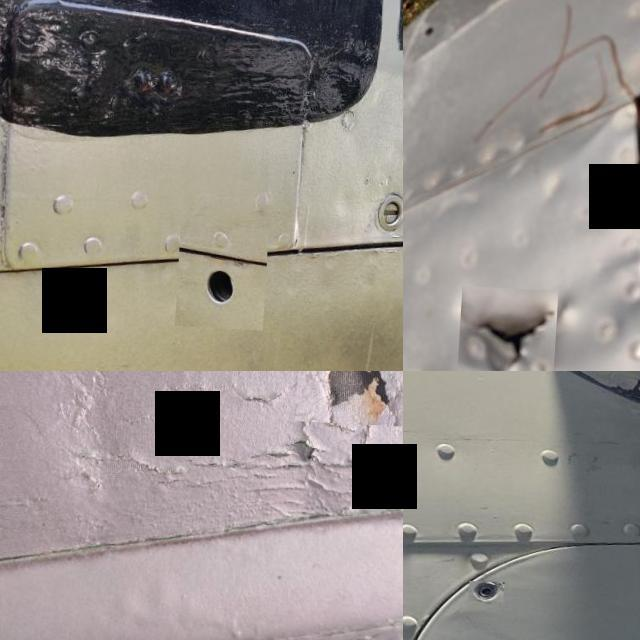Crack: (462, 282, 563, 371), (299, 371, 403, 420)
Missing_Fastener: (181, 222, 274, 327), (474, 580, 509, 600)
